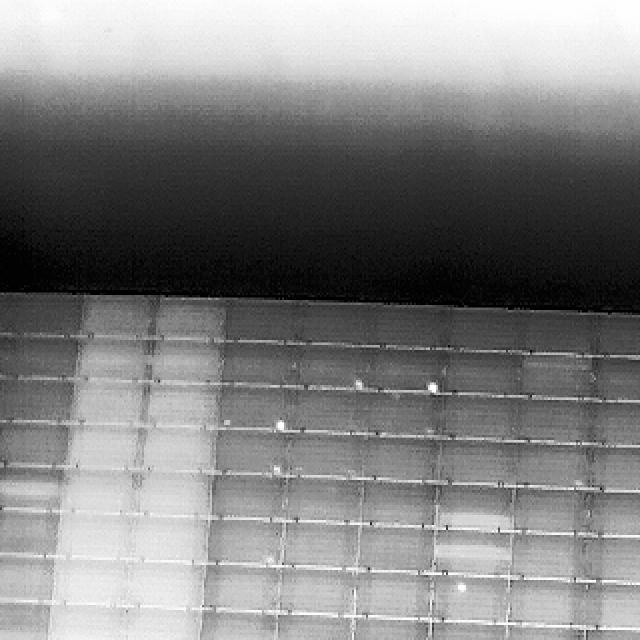Hotspots: (268, 458, 287, 479), (270, 415, 290, 434), (450, 580, 469, 597), (262, 549, 278, 569), (426, 379, 441, 396), (353, 374, 366, 393), (221, 418, 235, 431)
PV-modules: (442, 309, 528, 356), (437, 349, 524, 395), (509, 579, 589, 628), (433, 531, 512, 580), (432, 574, 509, 624), (288, 430, 369, 477), (283, 477, 364, 524), (134, 518, 210, 568), (513, 484, 589, 534), (203, 518, 280, 567), (1, 335, 83, 381), (437, 438, 517, 485), (355, 570, 433, 618), (280, 568, 358, 616), (0, 292, 85, 336), (220, 342, 299, 389), (204, 565, 281, 613), (278, 524, 358, 570), (364, 434, 439, 483), (439, 396, 522, 440), (358, 526, 434, 574), (52, 557, 126, 606), (294, 390, 369, 438), (1, 380, 79, 426), (361, 481, 437, 528), (368, 305, 445, 351), (222, 302, 302, 346), (214, 426, 287, 474), (128, 562, 204, 608), (438, 484, 514, 530), (56, 516, 130, 563), (2, 421, 75, 468), (142, 426, 215, 473), (69, 469, 139, 518), (208, 474, 284, 519), (74, 380, 145, 428), (296, 345, 370, 391), (78, 337, 152, 383), (363, 393, 435, 440), (299, 304, 374, 349), (147, 384, 222, 429), (512, 532, 582, 580), (82, 294, 158, 338), (523, 397, 594, 444), (525, 312, 596, 359), (361, 346, 435, 391), (139, 472, 211, 518), (153, 339, 223, 386), (524, 352, 596, 397), (2, 468, 70, 515), (520, 446, 592, 490), (154, 297, 226, 341), (216, 387, 288, 430), (73, 424, 143, 468), (0, 511, 58, 560), (44, 605, 124, 640), (584, 580, 640, 628), (124, 605, 200, 640), (582, 538, 640, 582), (588, 445, 640, 493), (588, 355, 640, 403), (0, 556, 53, 603), (586, 402, 640, 448), (586, 490, 640, 535), (198, 610, 278, 640), (588, 315, 640, 360), (348, 615, 430, 640), (276, 615, 354, 640), (0, 602, 48, 640), (426, 620, 506, 640), (506, 625, 582, 640), (580, 627, 640, 640)
